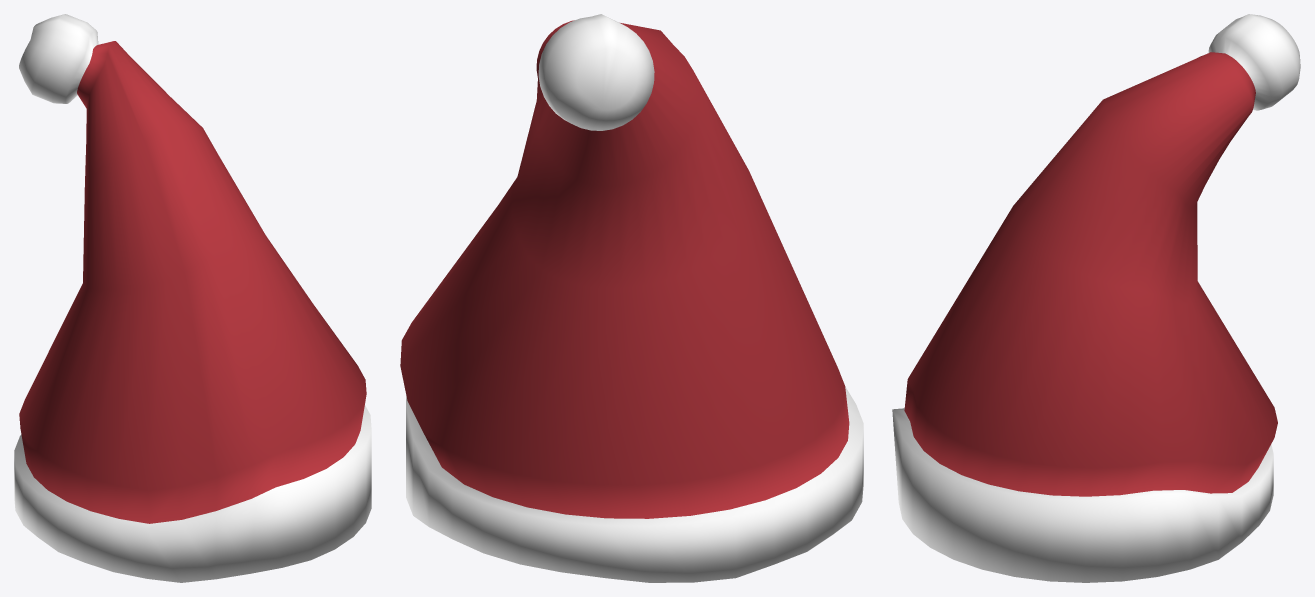
File: 1 доп шляпа.fbx
3 views of the same model, side by side, from view 1: azimuth 30°, elevation 25°; view 2: azimuth 150°, elevation 25°; view 3: azimuth 270°, elevation 25° (orthographic). The views are drawn at different scales.
Parts seen in each view (by area): view 1: Cylinder.108; view 2: Cylinder.108; view 3: Cylinder.108.
Part boxes in pixels (x1=…): Cylinder.108: x1=14, y1=14, x2=371, y2=582; Cylinder.108: x1=400, y1=14, x2=863, y2=582; Cylinder.108: x1=892, y1=14, x2=1300, y2=582.
Bounding box in the file's own units: 217 × 297 × 237.
